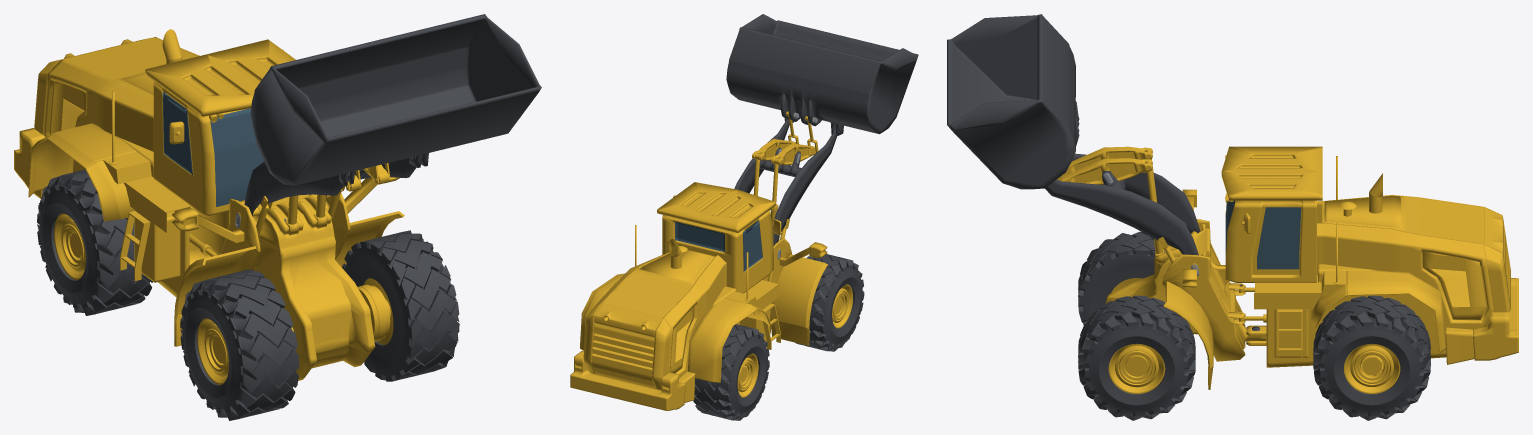
File: wheel_loader.glb
3 views of the same model, side by side, from view 1: azimuth 30°, elevation 25°; view 2: azimuth 150°, elevation 25°; view 3: azimuth 270°, elevation 25° (orthographic). The views are drawn at different scales.
Visible parts, largest first — view 1: Plane.045, Plane.041, Plane.038, Cube.021, Plane.042, Plane.046, Plane.018, Plane.024, Plane.032, Circle.001, Plane.043, Plane.036 (+12 smaller); view 2: Plane.045, Cube.021, Plane.042, Plane.032, Plane.046, Plane.024, Plane.041, Circle.001, Plane.048, Plane.035, Plane.018, Plane.039 (+15 smaller); view 3: Plane.045, Plane.041, Plane.042, Cube.021, Plane.018, Plane.038, Plane.039, Plane.046, Plane.032, Cube.016, Plane.024, Plane.040 (+12 smaller).
Boxes of the visible parts, x1=… form: Plane.045: x1=250, y1=14, x2=541, y2=186; Plane.041: x1=180, y1=230, x2=459, y2=420; Plane.038: x1=216, y1=193, x2=375, y2=380; Cube.021: x1=153, y1=81, x2=263, y2=215; Plane.042: x1=37, y1=169, x2=152, y2=315; Plane.046: x1=145, y1=39, x2=295, y2=116; Plane.018: x1=42, y1=37, x2=199, y2=172; Plane.024: x1=28, y1=123, x2=135, y2=197; Plane.032: x1=63, y1=37, x2=196, y2=97; Circle.001: x1=174, y1=211, x2=404, y2=346; Plane.043: x1=197, y1=278, x2=393, y2=384; Plane.036: x1=103, y1=151, x2=191, y2=232; Plane.045: x1=726, y1=14, x2=918, y2=135; Cube.021: x1=662, y1=210, x2=773, y2=293; Plane.042: x1=693, y1=324, x2=769, y2=420; Plane.032: x1=602, y1=250, x2=714, y2=317; Plane.046: x1=657, y1=182, x2=775, y2=232; Plane.024: x1=580, y1=273, x2=757, y2=382; Plane.041: x1=795, y1=254, x2=864, y2=351; Circle.001: x1=771, y1=254, x2=827, y2=345; Plane.048: x1=570, y1=351, x2=685, y2=410; Plane.035: x1=591, y1=322, x2=654, y2=381; Plane.018: x1=593, y1=252, x2=726, y2=378; Plane.039: x1=734, y1=119, x2=837, y2=245; Plane.045: x1=947, y1=14, x2=1079, y2=189; Plane.041: x1=1078, y1=231, x2=1195, y2=420; Plane.042: x1=1313, y1=295, x2=1430, y2=420; Cube.021: x1=1225, y1=200, x2=1316, y2=282; Plane.018: x1=1317, y1=195, x2=1493, y2=329; Plane.038: x1=1105, y1=219, x2=1266, y2=361; Plane.039: x1=1045, y1=153, x2=1200, y2=255; Plane.046: x1=1221, y1=146, x2=1322, y2=200; Plane.032: x1=1322, y1=195, x2=1483, y2=243; Cube.016: x1=1246, y1=264, x2=1446, y2=367; Plane.024: x1=1346, y1=270, x2=1445, y2=352; Plane.040: x1=1057, y1=146, x2=1152, y2=184.
Bounding box in the file's own units: 2.74 × 4.61 × 7.4.
